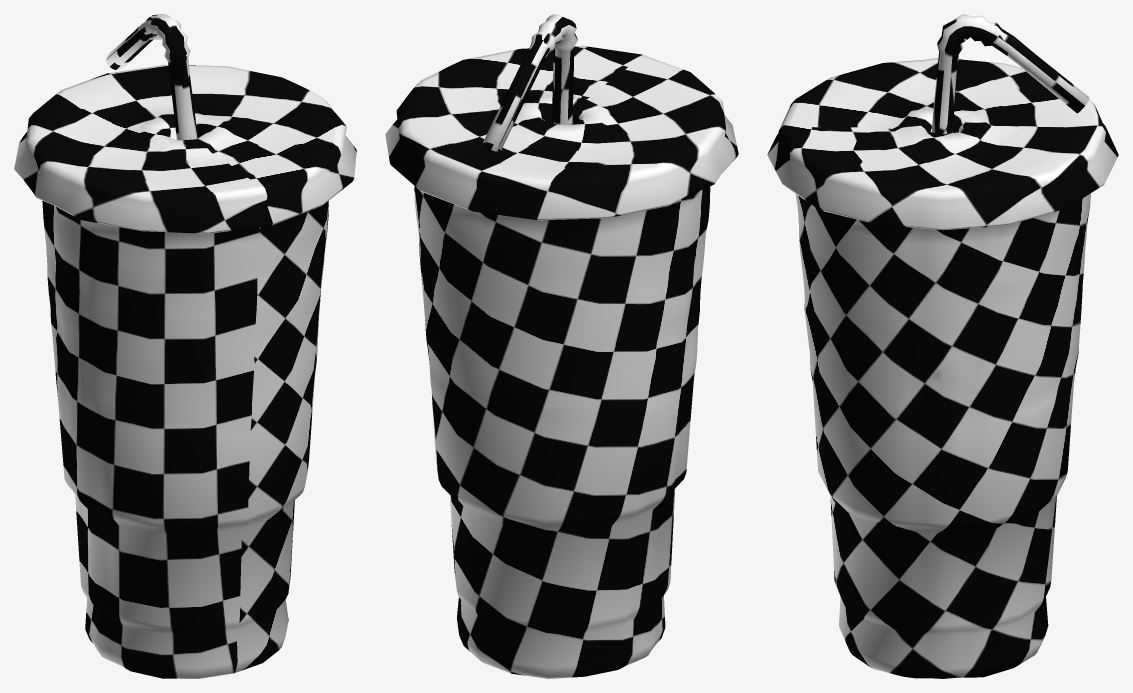
Rendered from Cup.fbx.
The picture shows the model from 3 angles, left to right: view 1: azimuth 30°, elevation 25°; view 2: azimuth 150°, elevation 25°; view 3: azimuth 270°, elevation 25°; orthographic projection. The views are drawn at different scales.
Visible parts, largest first — view 1: CupBody, CupLid, Straw; view 2: CupBody, CupLid, Straw; view 3: CupBody, CupLid, Straw.
Part boxes in pixels (x1,y1,x2,y2): CupBody: [42, 200, 328, 678]; CupLid: [14, 64, 356, 233]; Straw: [106, 14, 197, 140]; CupBody: [414, 186, 710, 678]; CupLid: [385, 45, 738, 220]; Straw: [483, 14, 577, 151]; CupBody: [795, 193, 1090, 678]; CupLid: [767, 58, 1118, 230]; Straw: [931, 14, 1089, 134].
Bounding box in the file's own units: 231 × 454 × 232.
